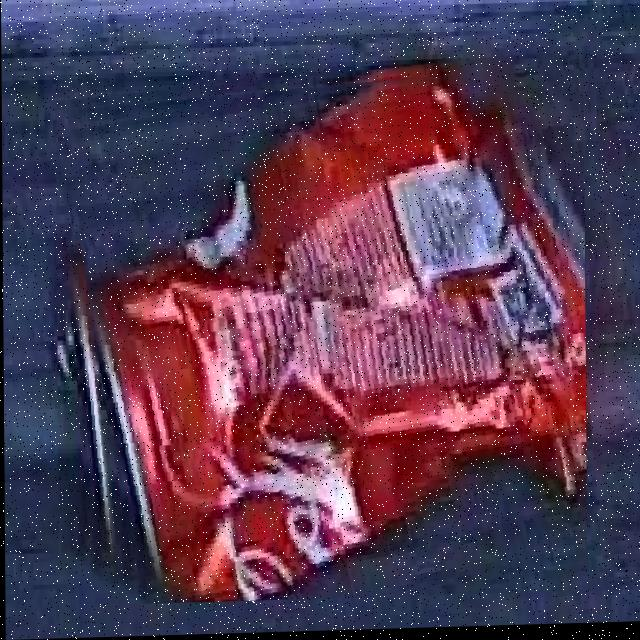litter: (79, 81, 585, 605)
